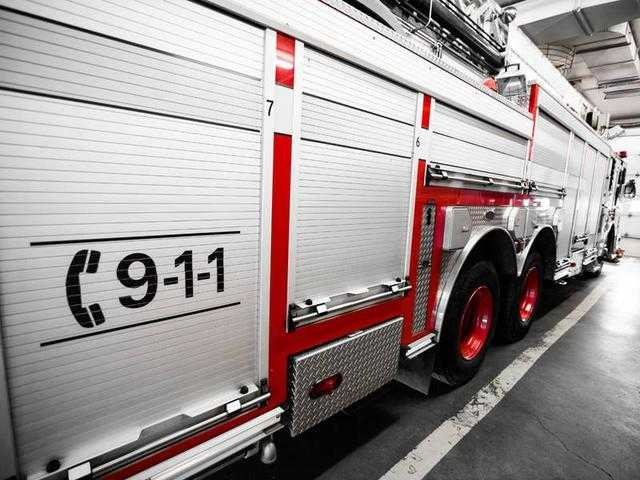Fire Truck: (0, 6, 628, 469)
